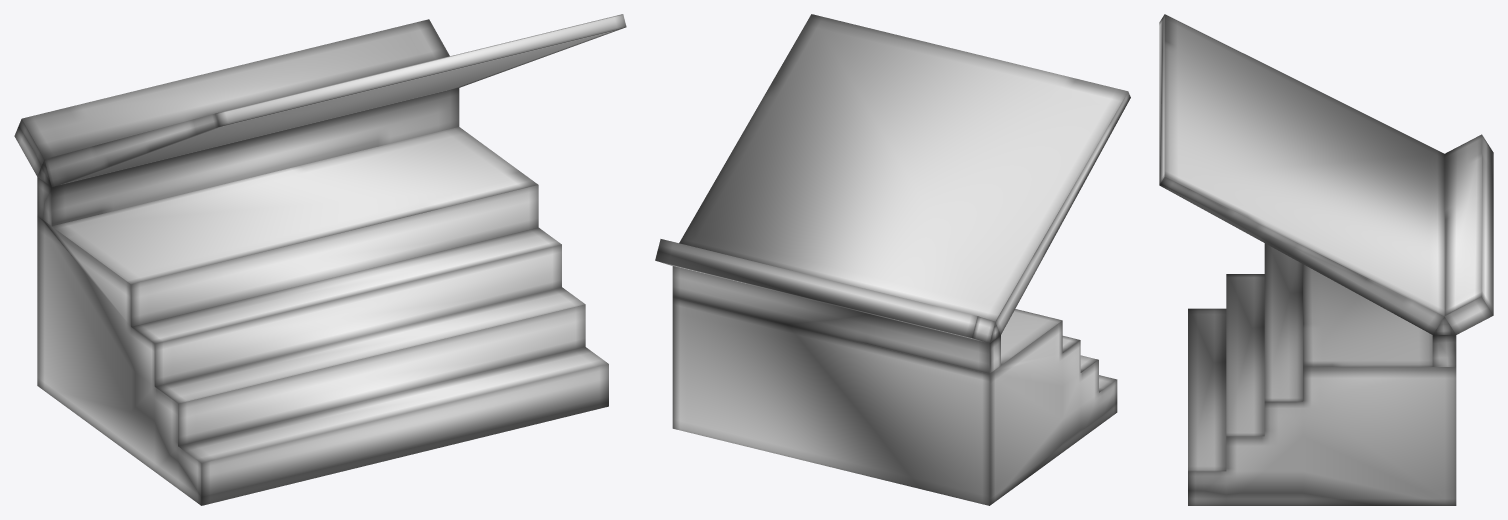
File: Tribune-01.fbx
3 renders of one model, left to right at view 1: azimuth 30°, elevation 25°; view 2: azimuth 150°, elevation 25°; view 3: azimuth 270°, elevation 25°, orthographic. The views are drawn at different scales.
Visible parts, largest first — view 1: Tribune; view 2: Tribune; view 3: Tribune.
Part boxes in pixels (x1,y1,x2,y2): Tribune: (14, 14, 626, 505); Tribune: (655, 14, 1130, 505); Tribune: (1159, 14, 1493, 505).
Bounding box in the file's own units: 2 × 1.89 × 1.74.
